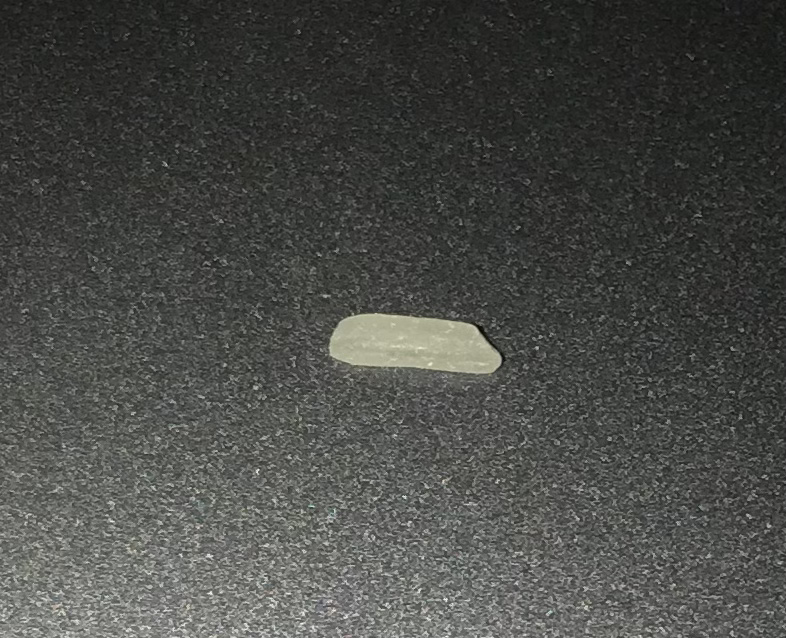Gao Tam Thom: (303, 286, 525, 404)
